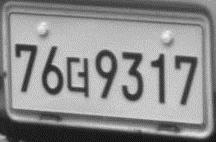1: (146, 51, 173, 105)
3: (121, 50, 144, 101)
6: (40, 44, 64, 95)
7: (172, 54, 199, 106), (13, 42, 39, 93)
9: (94, 48, 118, 99)
더: (65, 54, 90, 98)
